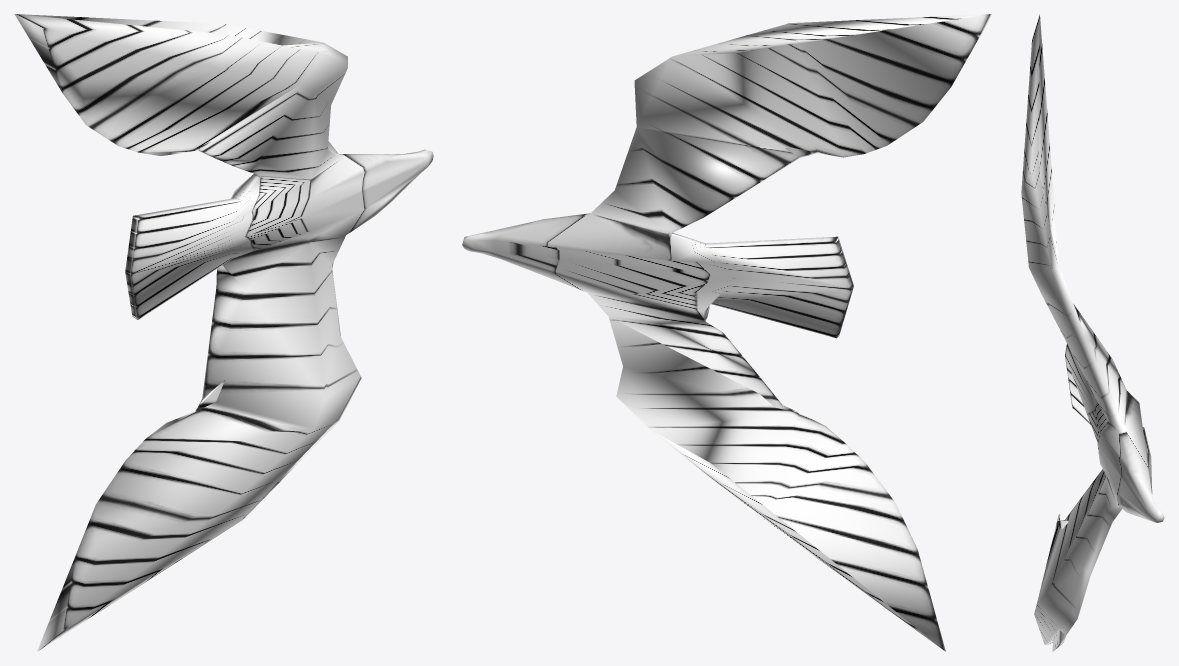
The model's file is seagull_000008.obj.
3 renders of one model, left to right at view 1: azimuth 30°, elevation 25°; view 2: azimuth 150°, elevation 25°; view 3: azimuth 270°, elevation 25°, orthographic. The views are drawn at different scales.
Parts seen in each view (by area): view 1: Seagull; view 2: Seagull; view 3: Seagull.
Part boxes in pixels (bbox=[...]): Seagull: bbox=[14, 14, 433, 651]; Seagull: bbox=[462, 14, 992, 651]; Seagull: bbox=[1021, 14, 1164, 651].
Size of the model in its own units: 0.7664 by 0.9962 by 0.2113.
